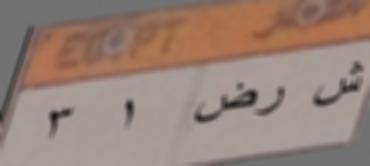1: (114, 94, 143, 132)
3: (38, 102, 80, 144)
daad: (194, 79, 256, 124)
raa: (257, 84, 294, 122)
sheen: (310, 57, 365, 113)
